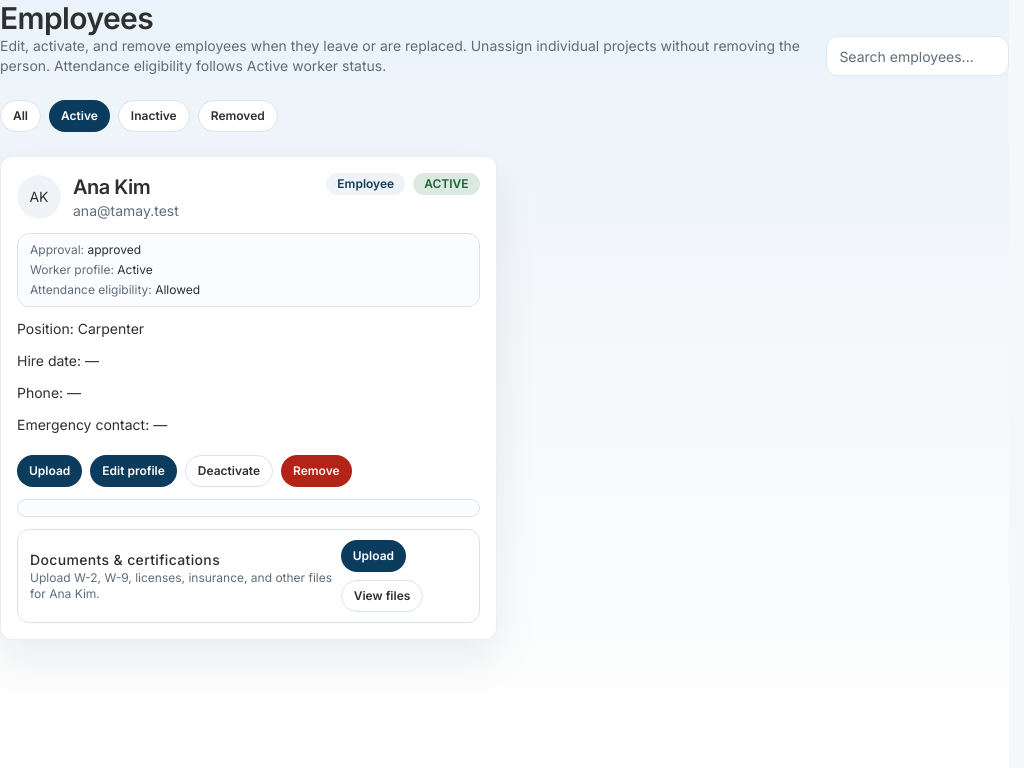
Employees private fields by viewer › admin sees and edits hire date, emergency contact and notes
Expected: the text "Hire date: —" is shown, [17,352,99,369]
Expected: the text "Emergency contact: —" is shown, [17,416,167,433]
Click the button "Edit profile".
click(134, 471)  # box [90,455,177,487]
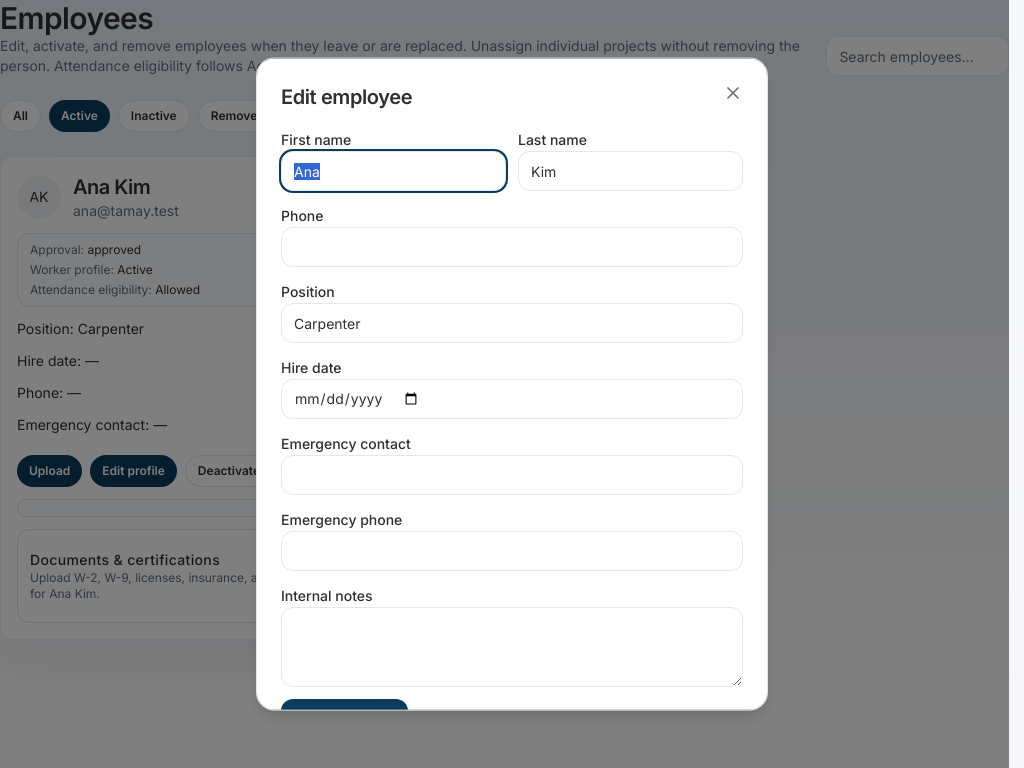
Now the text "Hire date" is shown, box [281,359,342,376]
Now the text "Internal notes" is shown, box [281,587,373,604]
